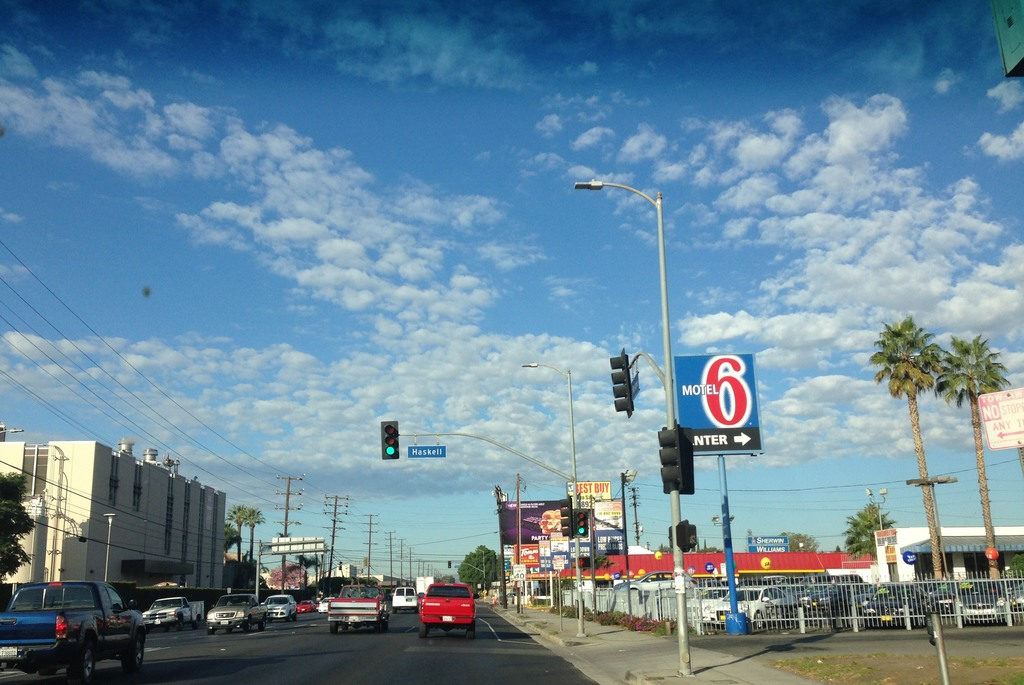green_light: (382, 421, 398, 457), (573, 509, 589, 536)
